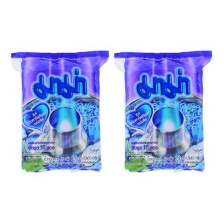snack: (109, 44, 216, 177), (6, 45, 112, 177)
